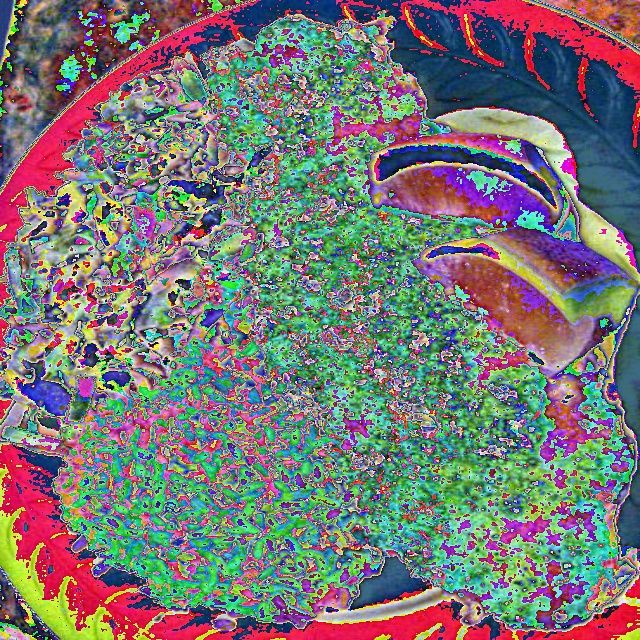background: (0, 12, 640, 631)
